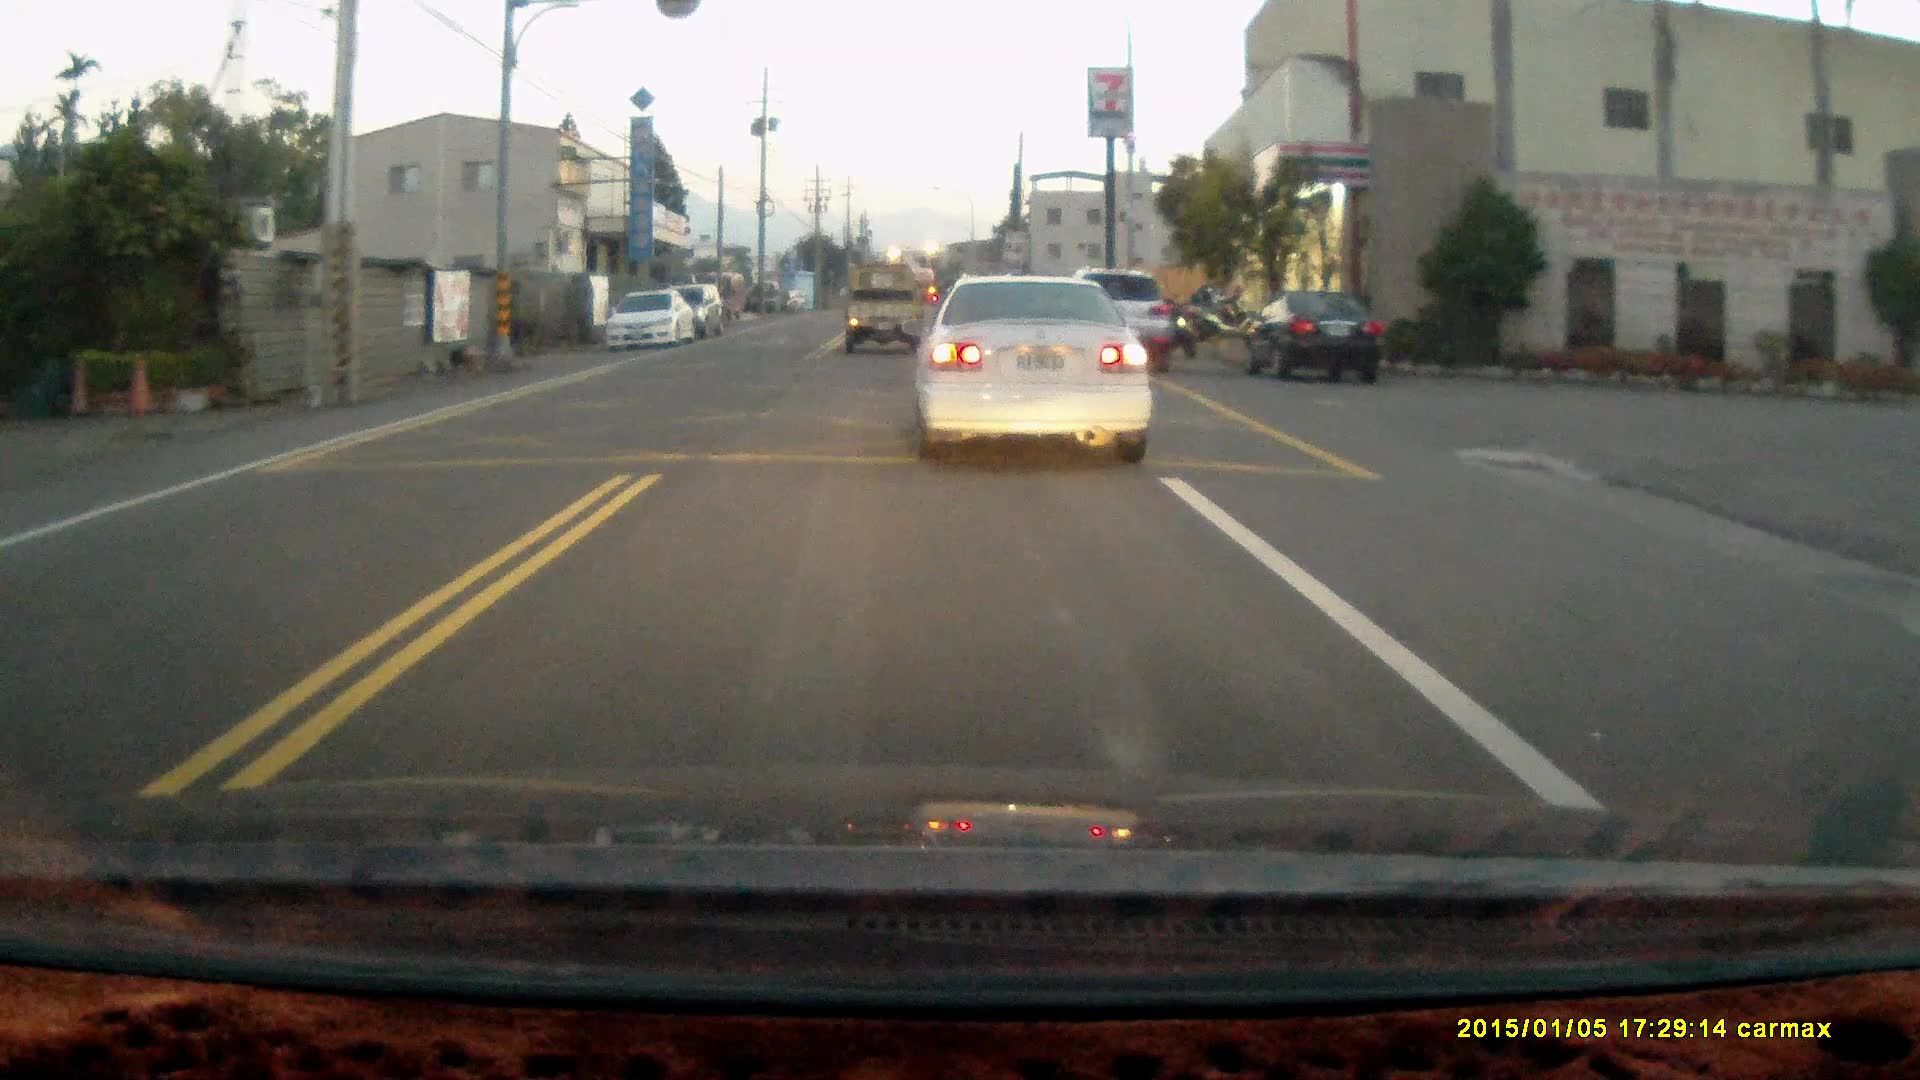vehicle: (915, 270, 1160, 465), (1237, 289, 1389, 385), (1058, 268, 1178, 373), (841, 265, 932, 356), (597, 287, 699, 352)
